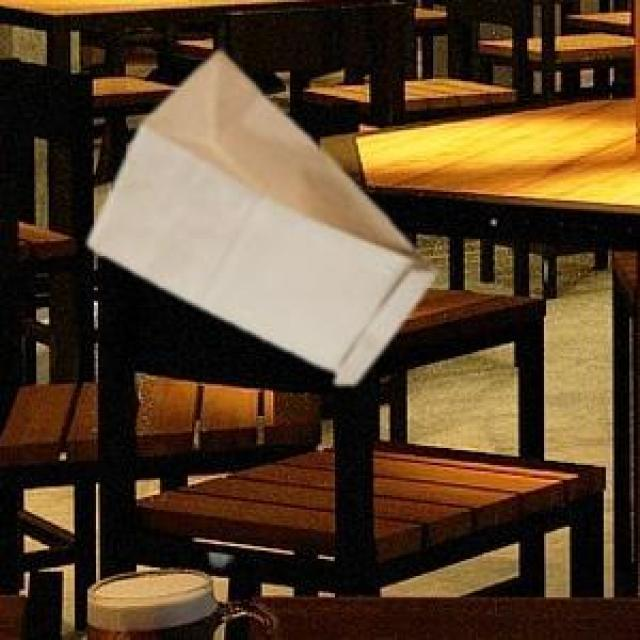paper: (85, 47, 433, 380)
